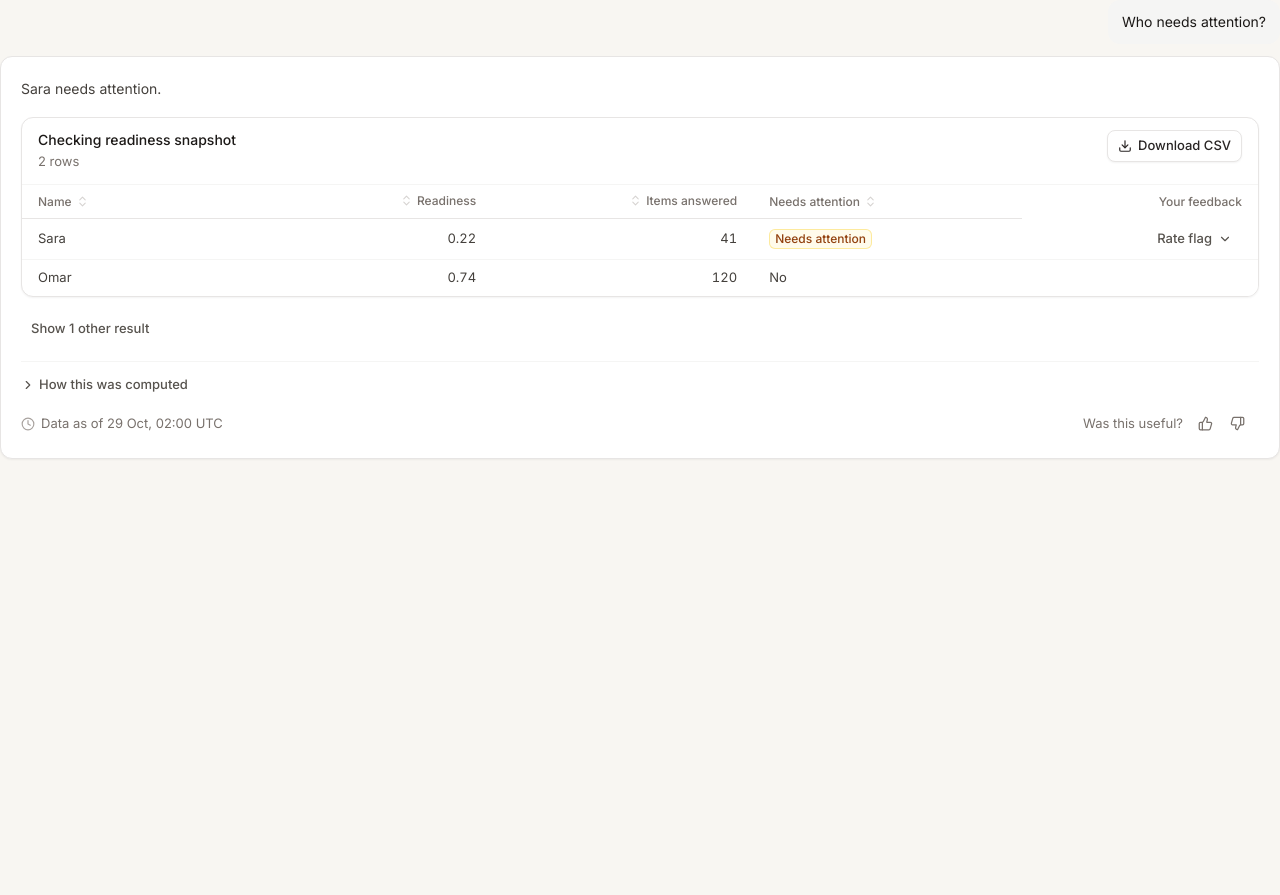
Test: how this was computed › has a block per query
Click the button "How this was computed".
click(104, 385)  # box [17,375,192,394]
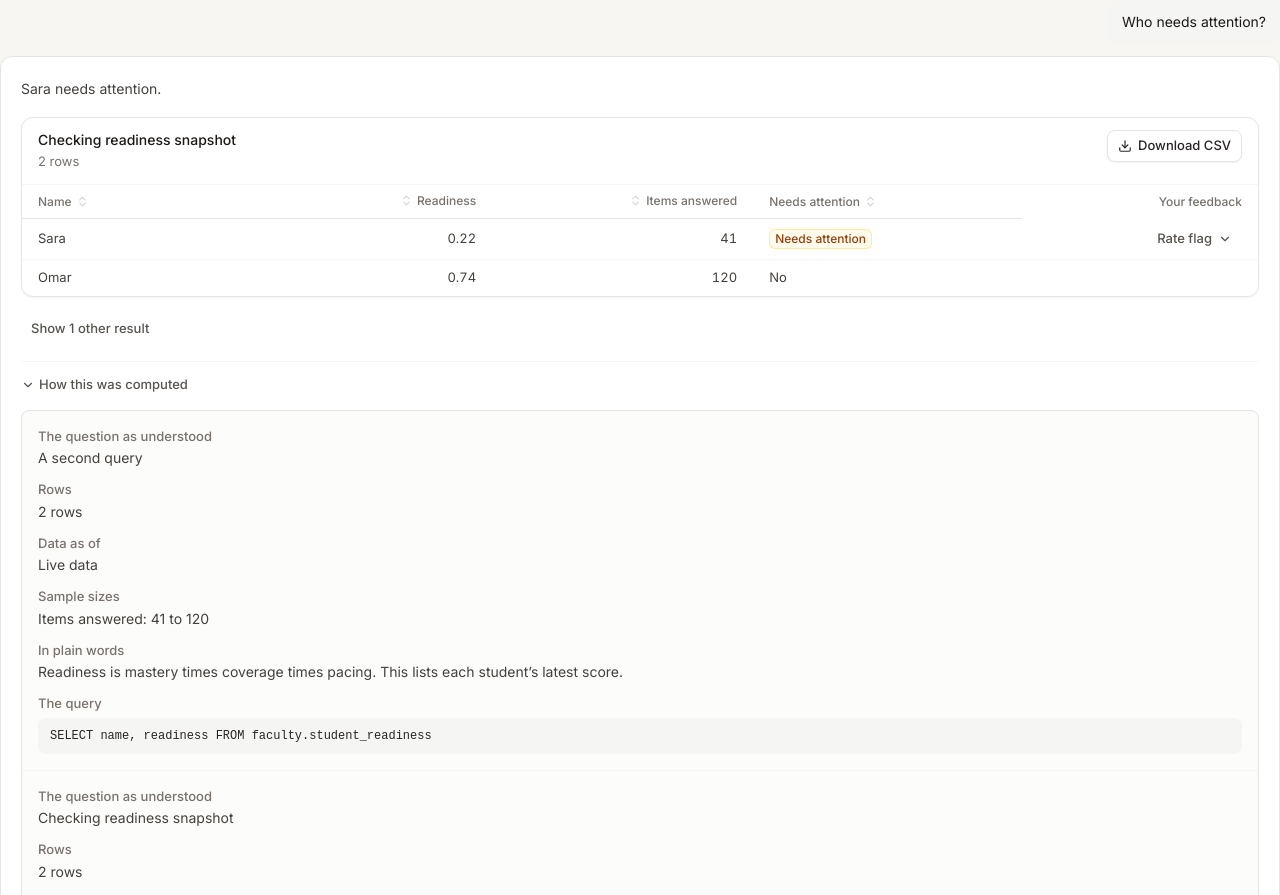
Result: the text "The question as understood" is shown 2 times at [38,428,212,444]; [38,788,212,804]
Result: the text "A second query" is shown at [38,449,143,466]
Result: the text "Live data" is shown at [38,556,98,573]
